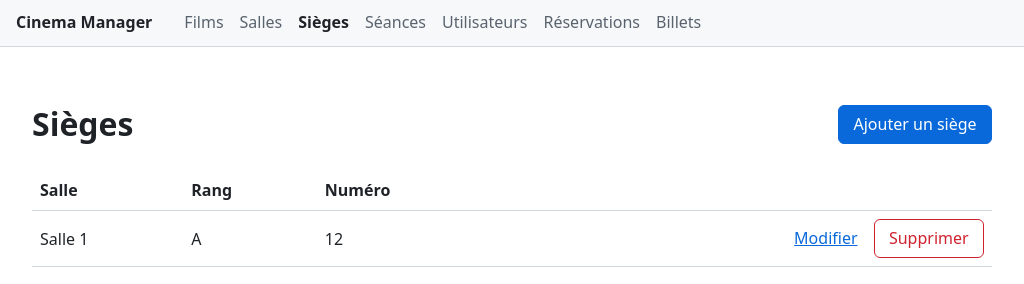
Scenario: SeatsPage › deletes a seat after confirmation
The width and height of the screenshot is (1024, 284).
Click the button "Supprimer". click: (929, 238)
box: [874,219,984,258]
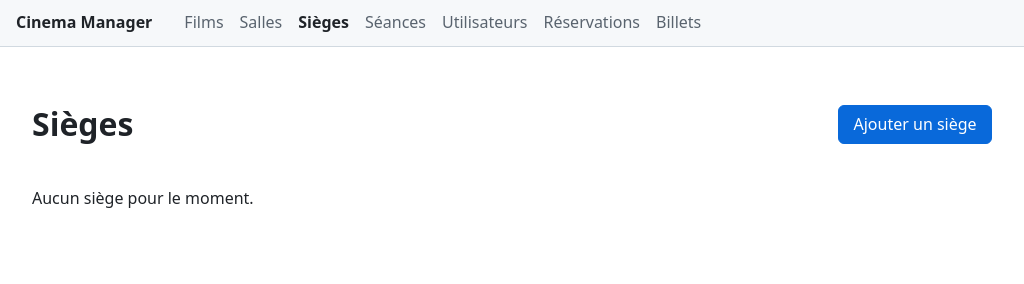
Expected: the text "Aucun siège pour le moment." is shown, [32,187,254,209]
